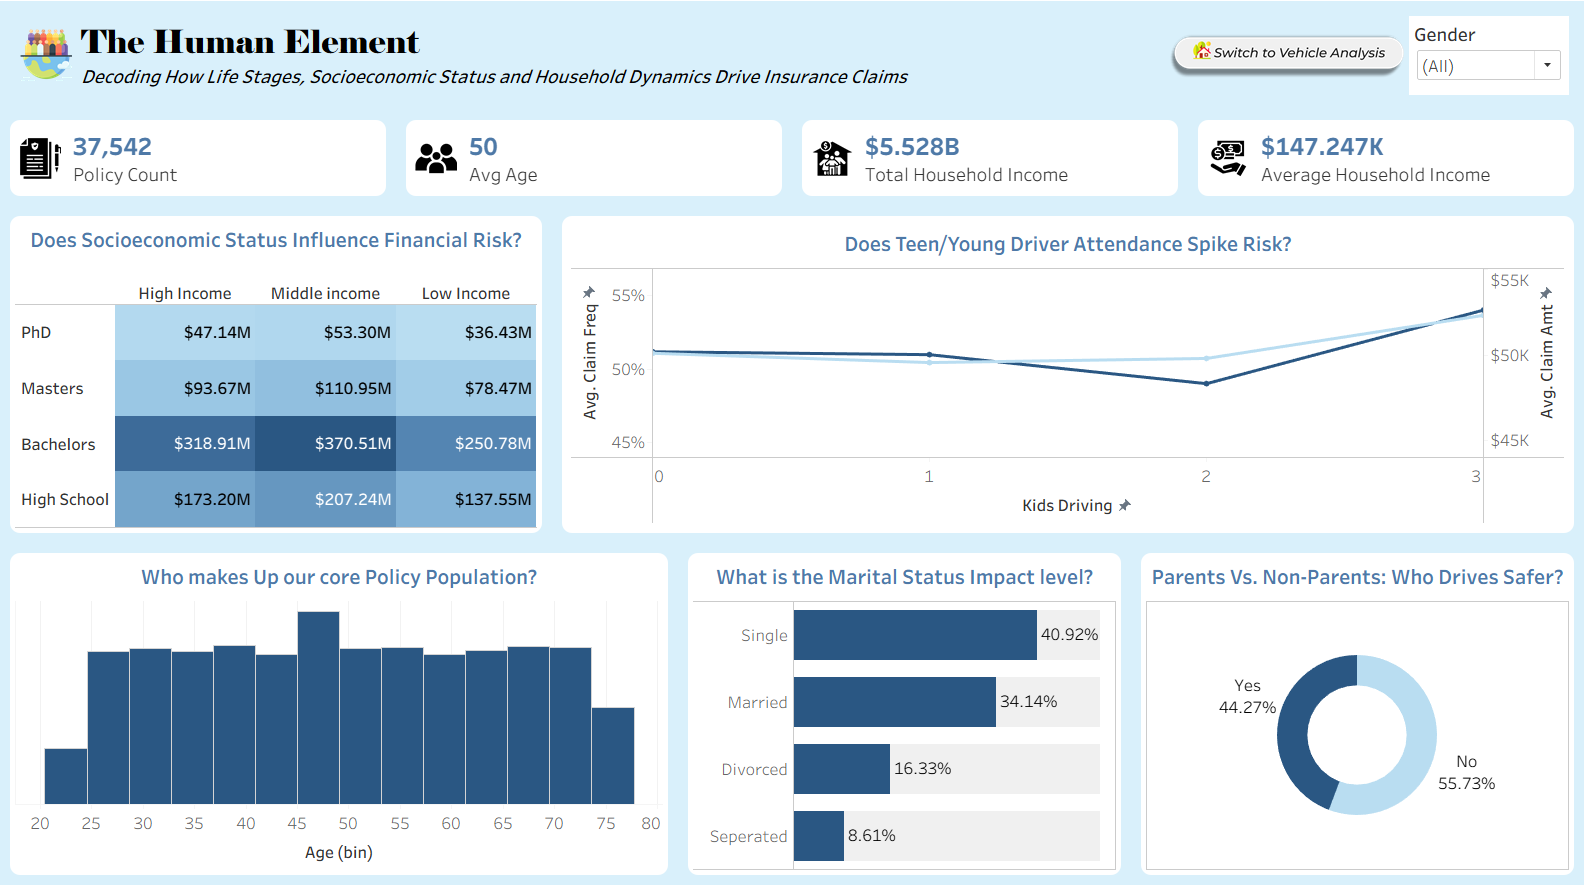

The page's visual inventory and layout, read from the dashboard file:
{"tool":"tableau","page":{"name":"Driver Behaviour and Social Profiles","canvas":[1600,900],"ordinal":1},"visuals":[{"type":"image","param":"Image/people.png","box":[23,23,62,79]},{"type":"text","box":[85,23,1088,79]},{"type":"dashboard-object","box":[1173,23,244,79]},{"type":"filter","title":"What is the Marital Status Impact level?","param":"[federated.04hyo650r2rqqj174ztx61yg1vz3].[none:gender:nk]","box":[1417,23,160,79]},{"type":"image","param":"Image/insurance-policy.png","box":[23,132,50,66]},{"type":"worksheet","title":"Policy Count","mark":"Automatic","box":[73,132,316,66]},{"type":"image","param":"Image/parental-control.png","box":[419,132,50,66]},{"type":"worksheet","title":"Average Individual Age","mark":"Automatic","box":[469,132,316,66]},{"type":"image","param":"Image/living.png","box":[815,132,50,66]},{"type":"worksheet","title":"Total Household Income","mark":"Automatic","box":[865,132,316,66]},{"type":"image","param":"Image/profit.png","box":[1211,132,50,66]},{"type":"worksheet","title":"Average Household Income","mark":"Automatic","box":[1261,132,316,66]},{"type":"worksheet","title":"Does Socioeconomic Status Influence Financial Risk?","mark":"Square","rows":["education"],"cols":["income_status"],"box":[23,228,522,307]},{"type":"worksheet","title":"Does Teen/Young Driver Attendance Spike Risk?","mark":"Line","rows":["claim_freq","claim_amt"],"cols":["kids_driving"],"box":[575,228,1002,307]},{"type":"worksheet","title":"Who makes Up our core Policy Population?","mark":"Automatic","rows":["age"],"cols":["Age (bin)"],"box":[23,565,648,312]},{"type":"worksheet","title":"What is the Marital Status Impact level?","mark":"Bar","rows":["marital_status"],"cols":["Calculation_0617385980502021","claim_freq"],"box":[701,565,423,312]},{"type":"worksheet","title":"Parents Vs. Non-Parents: Who Drives Safer?","mark":"Pie","cols":["Calculation_0617385988911122","Calculation_0617385988935699"],"box":[1154,565,423,312]}]}

Visuals, with their boxes in screenshot pixels (x1, y1, x2, y2), scaled from the page's 1600x900 canvas onto the 1584x885 screenshot:
image: bbox=[23, 23, 84, 100]
text: bbox=[84, 23, 1161, 100]
dashboard-object: bbox=[1161, 23, 1403, 100]
"What is the Marital Status Impact level?" filter: bbox=[1403, 23, 1561, 100]
image: bbox=[23, 130, 72, 195]
"Policy Count" worksheet: bbox=[72, 130, 385, 195]
image: bbox=[415, 130, 464, 195]
"Average Individual Age" worksheet: bbox=[464, 130, 777, 195]
image: bbox=[807, 130, 856, 195]
"Total Household Income" worksheet: bbox=[856, 130, 1169, 195]
image: bbox=[1199, 130, 1248, 195]
"Average Household Income" worksheet: bbox=[1248, 130, 1561, 195]
"Does Socioeconomic Status Influence Financial Risk?" worksheet (Square marks): bbox=[23, 224, 540, 526]
"Does Teen/Young Driver Attendance Spike Risk?" worksheet (Line marks): bbox=[569, 224, 1561, 526]
"Who makes Up our core Policy Population?" worksheet: bbox=[23, 556, 664, 862]
"What is the Marital Status Impact level?" worksheet (Bar marks): bbox=[694, 556, 1113, 862]
"Parents Vs. Non-Parents: Who Drives Safer?" worksheet (Pie marks): bbox=[1142, 556, 1561, 862]
